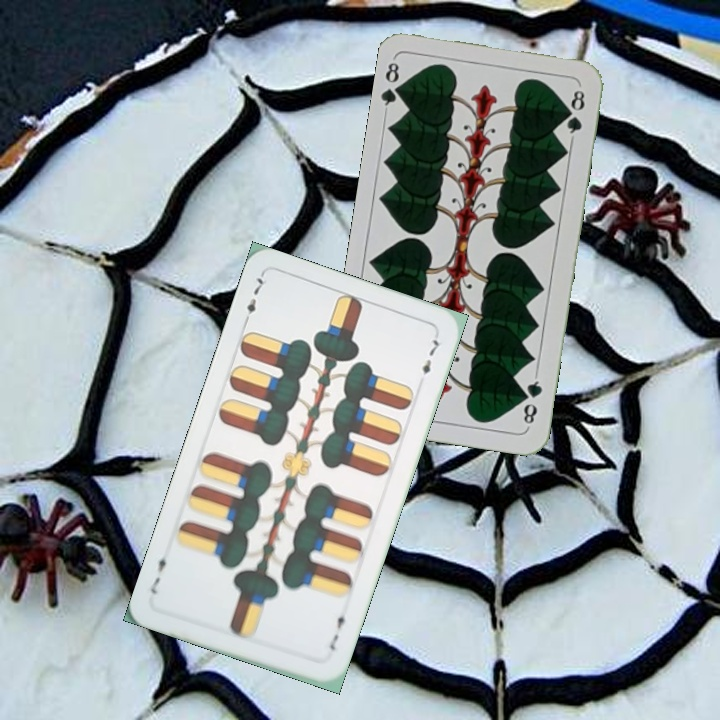E7: (239, 271, 270, 328), (325, 606, 350, 653)
G8: (378, 58, 408, 114), (519, 371, 545, 430)
